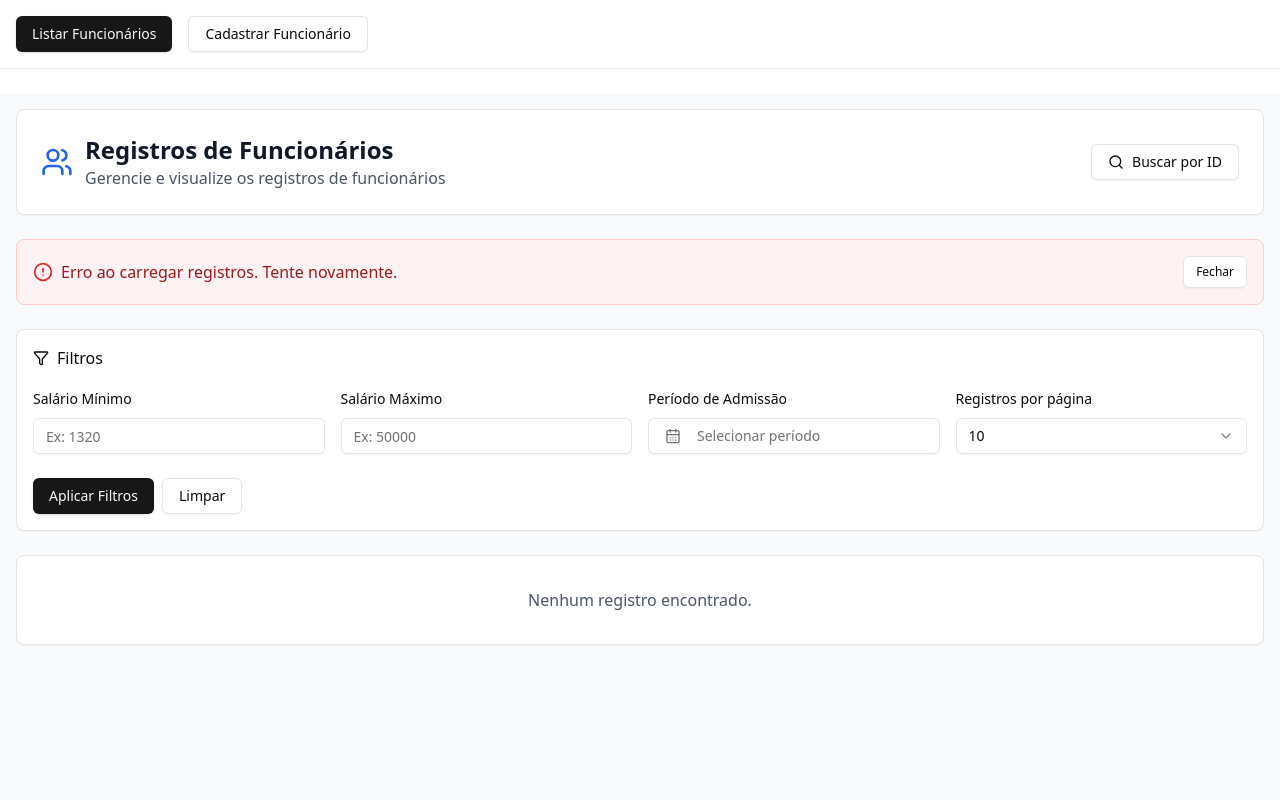
Test: Validação de Formulário e Filtros › Validação de Formulário › deve mostrar erros ao tentar enviar formulário vazio
Click the button "Cadastrar Funcionário" at (278, 34), box [188, 16, 368, 52]
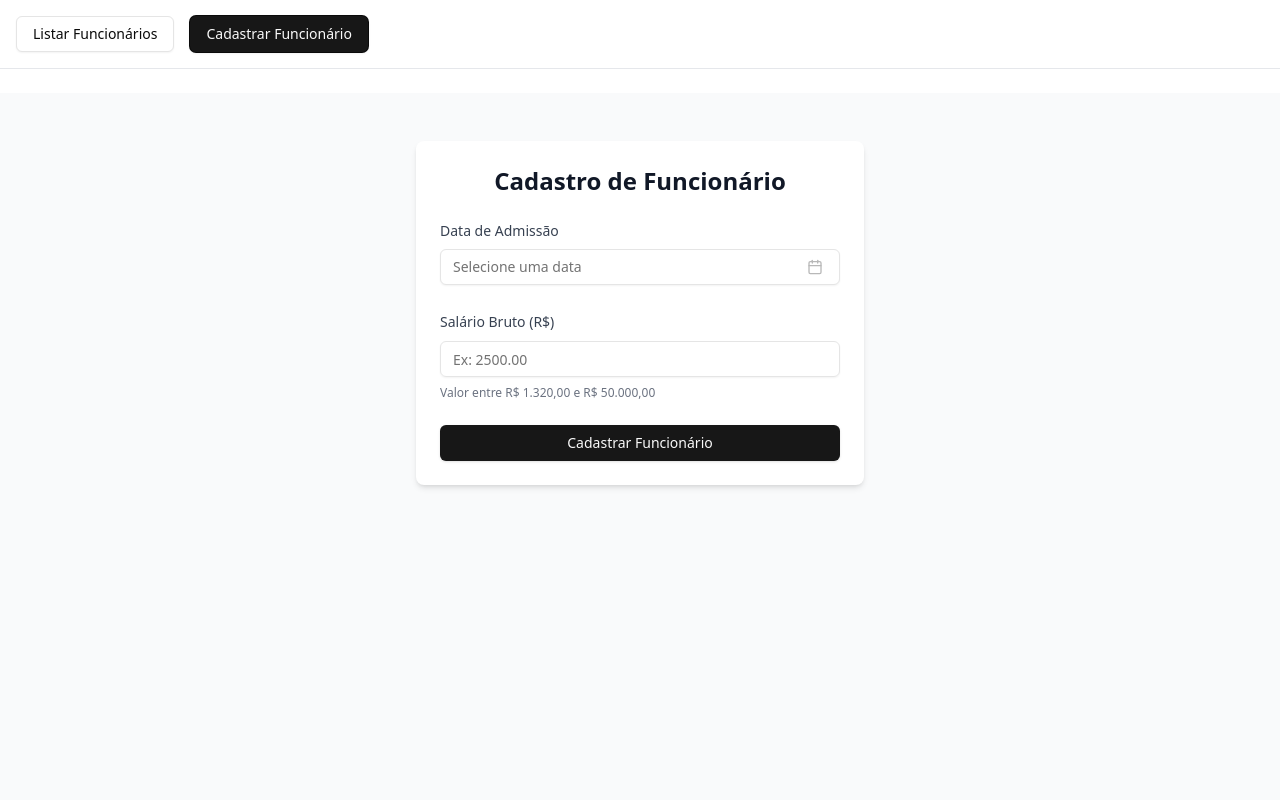
Click the submit button at (640, 443), box [440, 425, 840, 461]
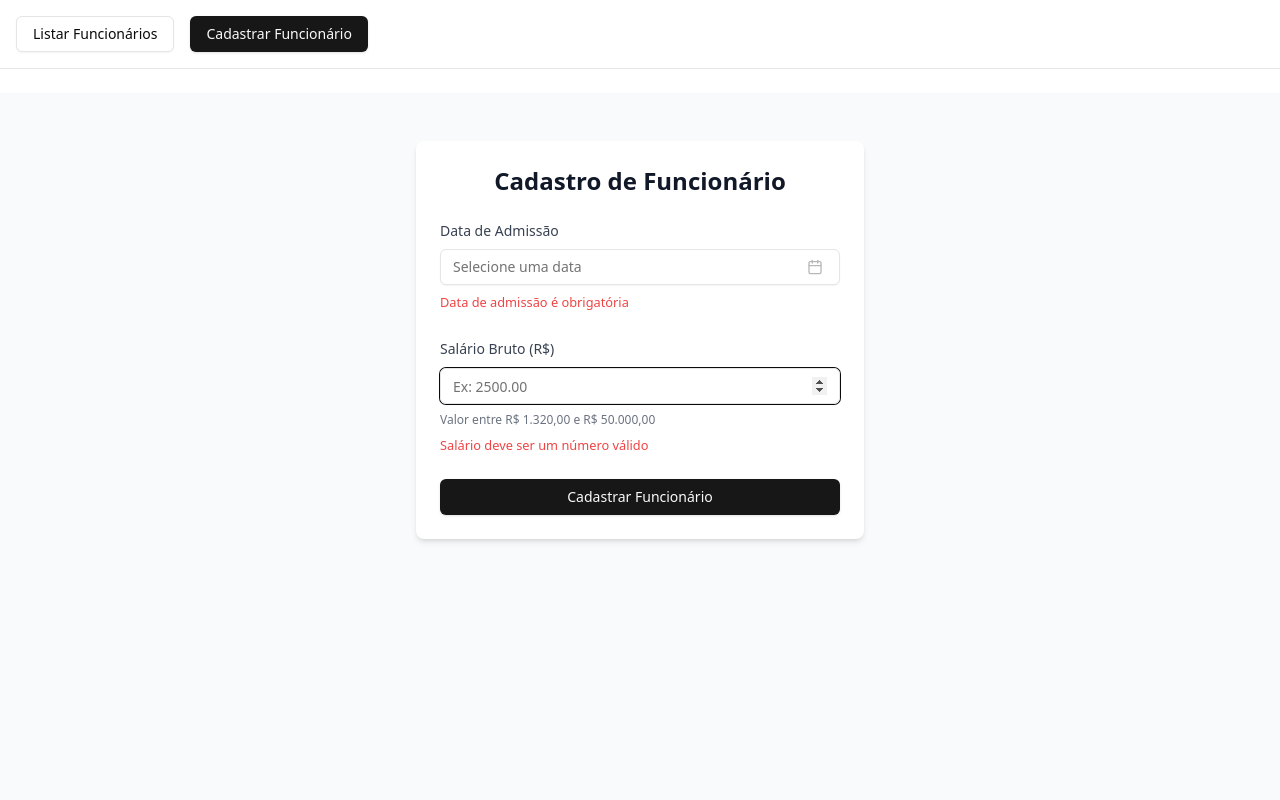
Expected: the text "Data de admissão é obrigatória" is shown, [440, 293, 629, 311]
Expected: the text "Salário deve ser um número válido" is shown, [440, 436, 648, 454]
